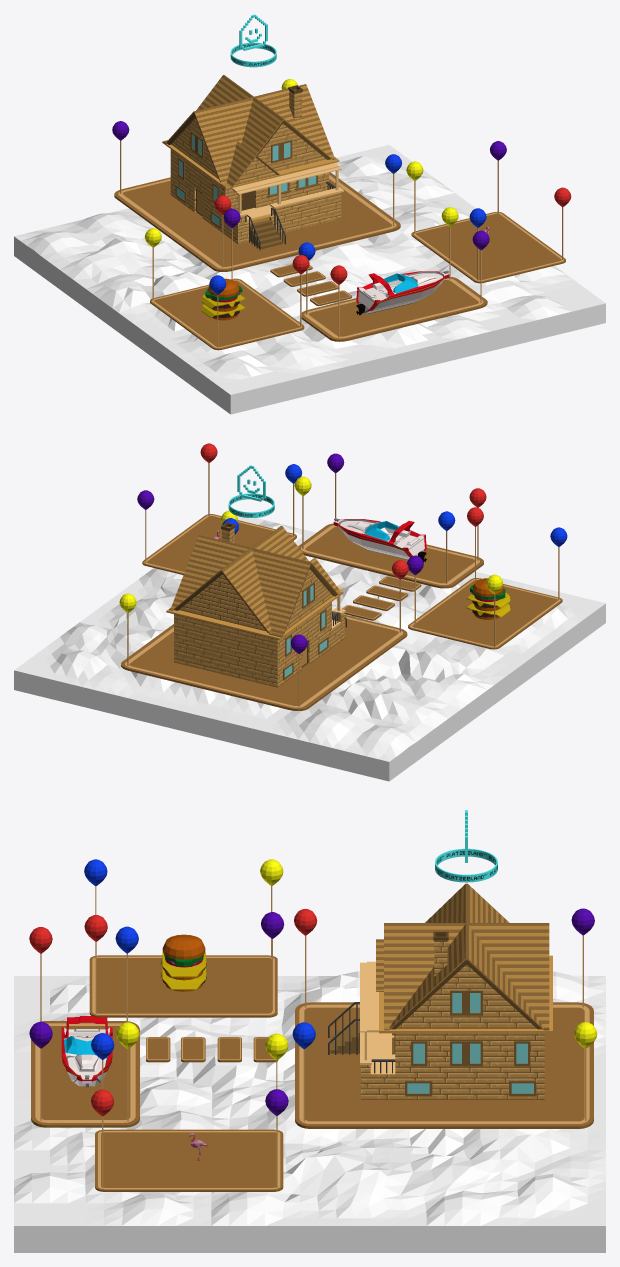
The picture shows the model from 3 angles, top to bottom: view 1: azimuth 30°, elevation 25°; view 2: azimuth 150°, elevation 25°; view 3: azimuth 270°, elevation 25°; orthographic projection. The views are drawn at different scales.
Visible parts, largest first — view 1: Cube.013, Cube.508, VEHICLES_BOAT, OBJRANDOM_HAMBURGER, TYPE_PREMIUM; view 2: Cube.013, Cube.508, VEHICLES_BOAT, OBJRANDOM_HAMBURGER, TYPE_PREMIUM; view 3: Cube.013, Cube.508, VEHICLES_BOAT, OBJRANDOM_HAMBURGER, TYPE_PREMIUM.
Boxes of the visible parts, <box> form: Cube.013: <box>14,79,605,414</box>; Cube.508: <box>162,75,343,250</box>; VEHICLES_BOAT: <box>356,270,449,315</box>; OBJRANDOM_HAMBURGER: <box>201,278,245,320</box>; TYPE_PREMIUM: <box>230,14,276,67</box>; Cube.013: <box>14,443,605,781</box>; Cube.508: <box>166,522,346,687</box>; VEHICLES_BOAT: <box>333,518,426,562</box>; OBJRANDOM_HAMBURGER: <box>466,578,510,619</box>; TYPE_PREMIUM: <box>228,465,274,517</box>; Cube.013: <box>14,859,605,1252</box>; Cube.508: <box>328,883,552,1099</box>; VEHICLES_BOAT: <box>61,1016,112,1087</box>; OBJRANDOM_HAMBURGER: <box>160,934,207,991</box>; TYPE_PREMIUM: <box>435,810,497,882</box>.
Bounding box in the file's own units: 4000 × 2421 × 4000.
Materials: 39 (3 with a texture image).
